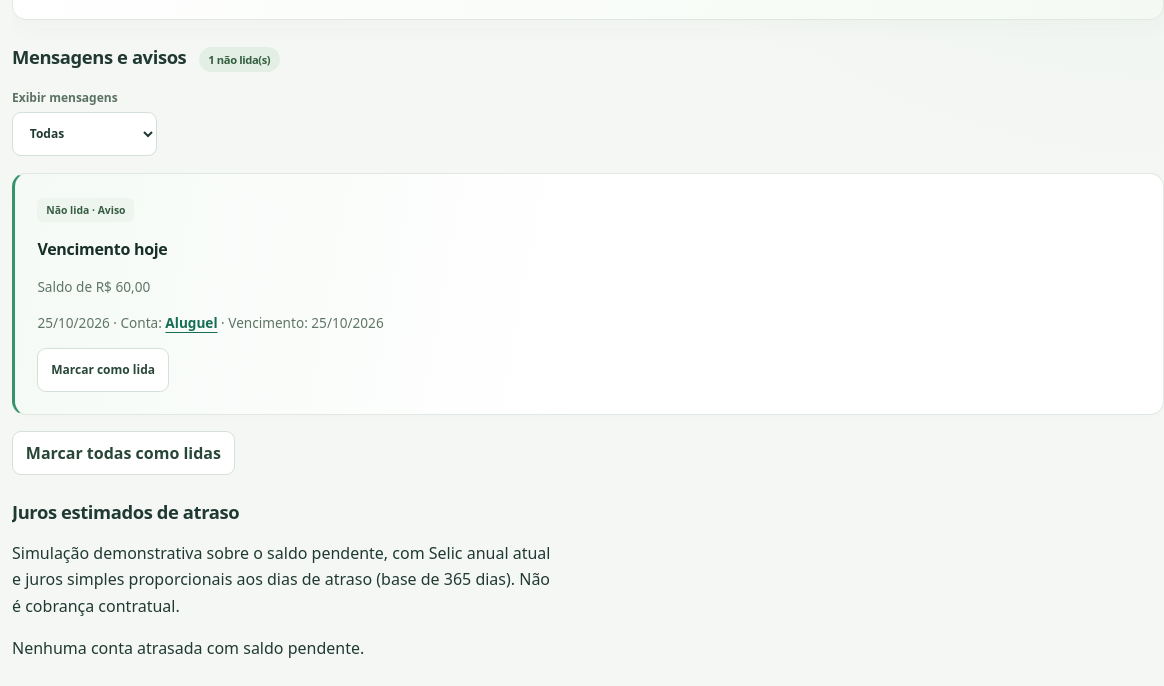
it: marca leitura pela API e anuncia sucesso
(page scrolled)
Click the button "Marcar como lida": x=103, y=370 [37,348,169,392]
(page scrolled)
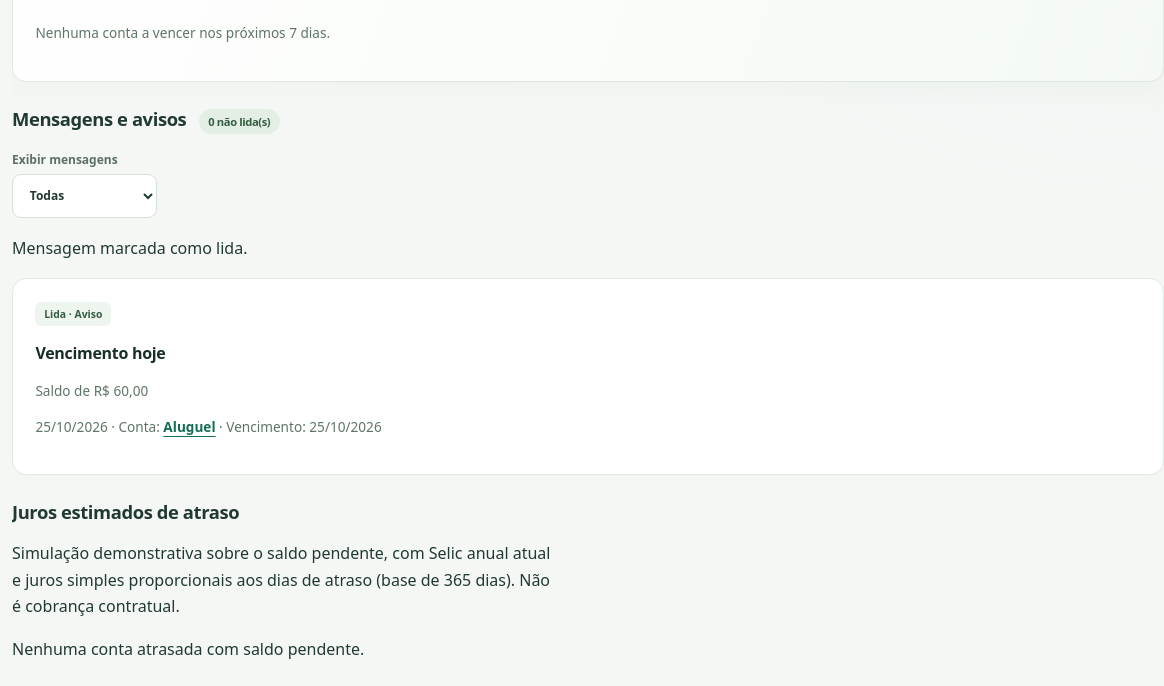
Check: the text "Mensagem marcada como lida" is shown, box [12,237,247,259]
